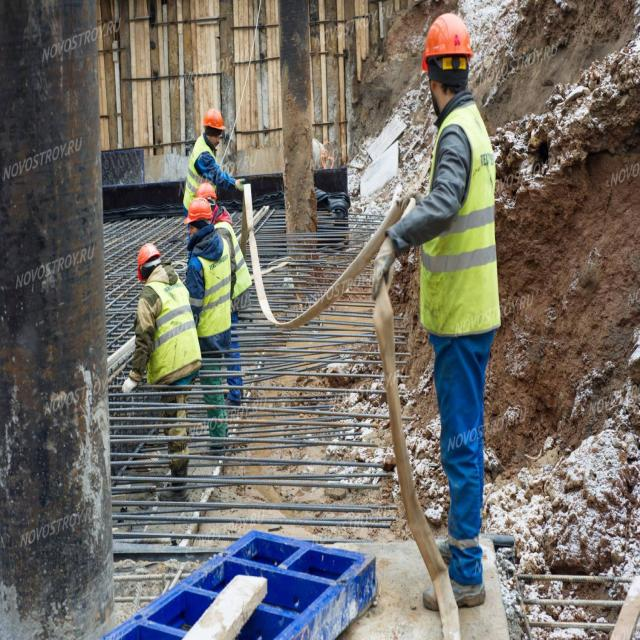Helmet: (422, 14, 474, 70), (138, 245, 163, 282), (185, 201, 213, 229), (204, 109, 228, 136), (198, 187, 220, 209)
Jacket: (425, 104, 496, 329), (147, 273, 192, 389), (192, 235, 235, 339), (189, 141, 211, 202), (234, 242, 253, 301)
